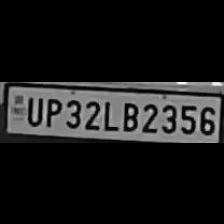2: (82, 95, 100, 129), (140, 98, 158, 132)
3: (61, 94, 80, 128), (158, 100, 176, 132)
5: (178, 100, 196, 134)
6: (197, 102, 215, 136)
B: (119, 98, 139, 132)
L: (100, 96, 118, 130)
P: (42, 94, 62, 126)
U: (22, 93, 42, 125)
